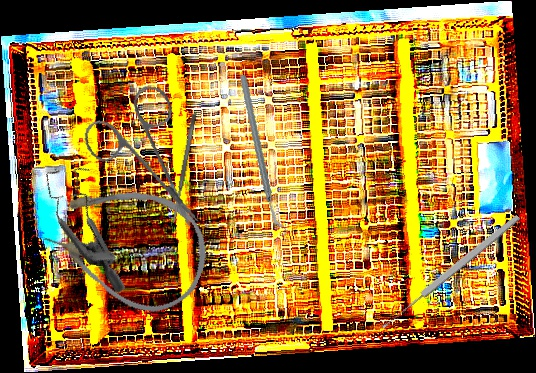Cannula: (32, 161, 223, 327)
Chopper: (211, 74, 314, 231)
Iris Scissors: (70, 74, 224, 229)
Spatula Surgical: (170, 112, 198, 224)
Speculum: (11, 150, 169, 296)
Surgical Spoon: (379, 213, 522, 331)
